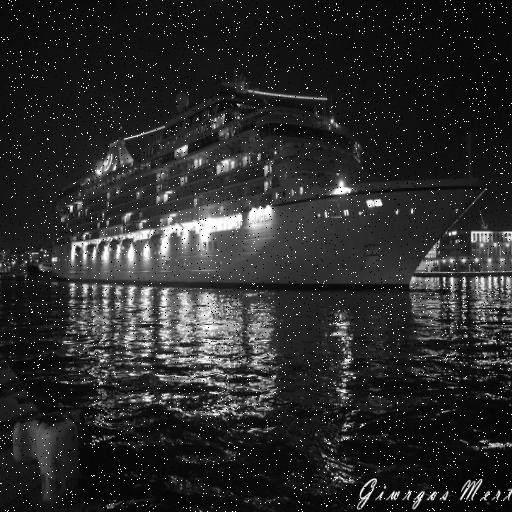cruises: (47, 64, 491, 300)
